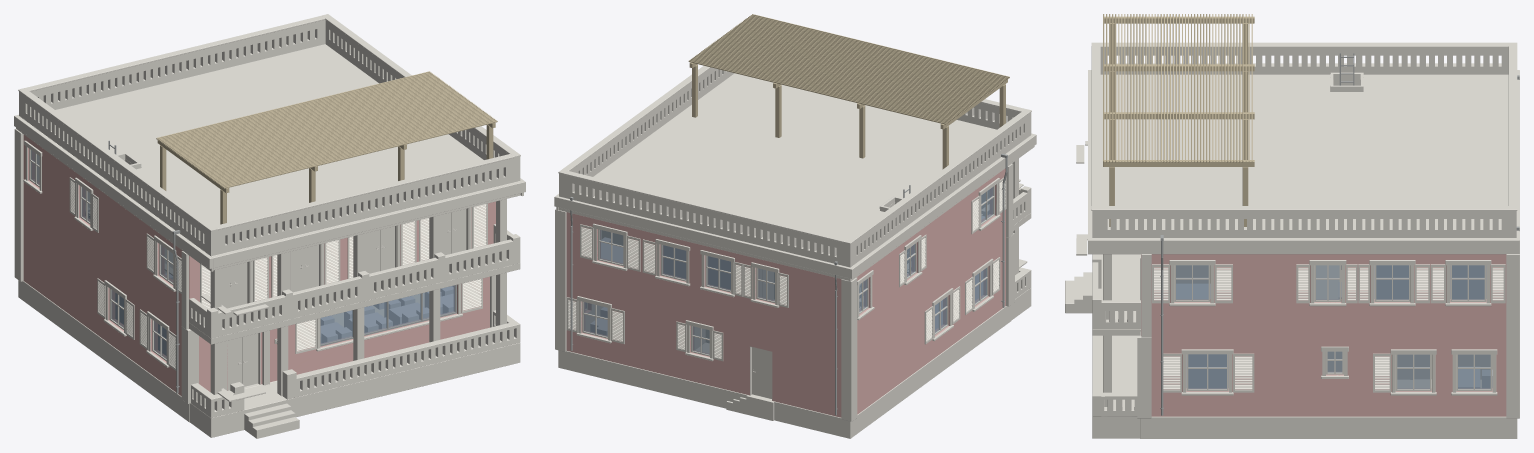
Rendered from souffleur_h03.glb.
The picture shows the model from 3 angles, left to right: view 1: azimuth 30°, elevation 25°; view 2: azimuth 150°, elevation 25°; view 3: azimuth 270°, elevation 25°; orthographic projection. The views are drawn at different scales.
Visible parts, largest first — view 1: Arch_sandstone_ashlar, Arch_pavers_concrete, Walls_Exterior, Parapet_Attika, Arch_wood_weathered, Arch_shutter_paint, Terrace_Base, Posts_Colonnade, Arch_glass, Foundation_Plinth, Slab_Balcony, Arch_limestone_flag (+13 smaller); view 2: Walls_Exterior, Arch_pavers_concrete, Arch_sandstone_ashlar, Arch_wood_weathered, Parapet_Attika, Foundation_Plinth, Arch_shutter_paint, Arch_glass, Arch_white_peeling_timber, galvanized_steel, DoorLeaf_02_L_in, Arch_limestone_flag (+2 smaller); view 3: Arch_pavers_concrete, Walls_Exterior, Arch_sandstone_ashlar, Parapet_Attika, Arch_wood_weathered, Foundation_Plinth, Arch_glass, Arch_shutter_paint, Arch_white_peeling_timber, Terrace_Base, Slab_Balcony, Ph_dining_curtains_01 (+11 smaller).
Boxes of the visible parts, x1=… form: Arch_sandstone_ashlar: x1=14, y1=14, x2=525, y2=418; Arch_pavers_concrete: x1=55, y1=44, x2=483, y2=225; Walls_Exterior: x1=23, y1=135, x2=495, y2=396; Parapet_Attika: x1=19, y1=19, x2=520, y2=256; Arch_wood_weathered: x1=156, y1=71, x2=497, y2=224; Arch_shutter_paint: x1=69, y1=177, x2=487, y2=370; Terrace_Base: x1=189, y1=343, x2=520, y2=437; Posts_Colonnade: x1=210, y1=199, x2=506, y2=395; Arch_glass: x1=31, y1=150, x2=454, y2=358; Foundation_Plinth: x1=18, y1=280, x2=276, y2=422; Slab_Balcony: x1=189, y1=263, x2=520, y2=344; Arch_limestone_flag: x1=244, y1=403, x2=299, y2=438; Walls_Exterior: x1=566, y1=168, x2=1005, y2=417; Arch_pavers_concrete: x1=593, y1=73, x2=996, y2=238; Arch_sandstone_ashlar: x1=554, y1=66, x2=1036, y2=421; Arch_wood_weathered: x1=688, y1=14, x2=1009, y2=169; Parapet_Attika: x1=559, y1=67, x2=1031, y2=267; Foundation_Plinth: x1=558, y1=305, x2=1011, y2=438; Arch_shutter_paint: x1=566, y1=176, x2=1006, y2=361; Arch_glass: x1=584, y1=187, x2=993, y2=354; Arch_white_peeling_timber: x1=582, y1=186, x2=994, y2=356; galvanized_steel: x1=570, y1=153, x2=1007, y2=415; DoorLeaf_02_L_in: x1=752, y1=347, x2=771, y2=398; Arch_limestone_flag: x1=726, y1=395, x2=774, y2=420; Arch_pavers_concrete: x1=1100, y1=74, x2=1508, y2=226; Walls_Exterior: x1=1141, y1=254, x2=1506, y2=416; Arch_sandstone_ashlar: x1=1076, y1=42, x2=1519, y2=418; Parapet_Attika: x1=1092, y1=47, x2=1516, y2=237; Arch_wood_weathered: x1=1103, y1=14, x2=1254, y2=226; Foundation_Plinth: x1=1140, y1=416, x2=1517, y2=438; Arch_glass: x1=1176, y1=265, x2=1490, y2=388; Arch_shutter_paint: x1=1140, y1=254, x2=1505, y2=392; Arch_white_peeling_timber: x1=1174, y1=265, x2=1492, y2=391; Terrace_Base: x1=1092, y1=335, x2=1140, y2=438; Slab_Balcony: x1=1092, y1=254, x2=1140, y2=335; Ph_dining_curtains_01: x1=1186, y1=354, x2=1228, y2=387.
Bounding box in the file's own units: 13.52 × 9.76 × 15.
